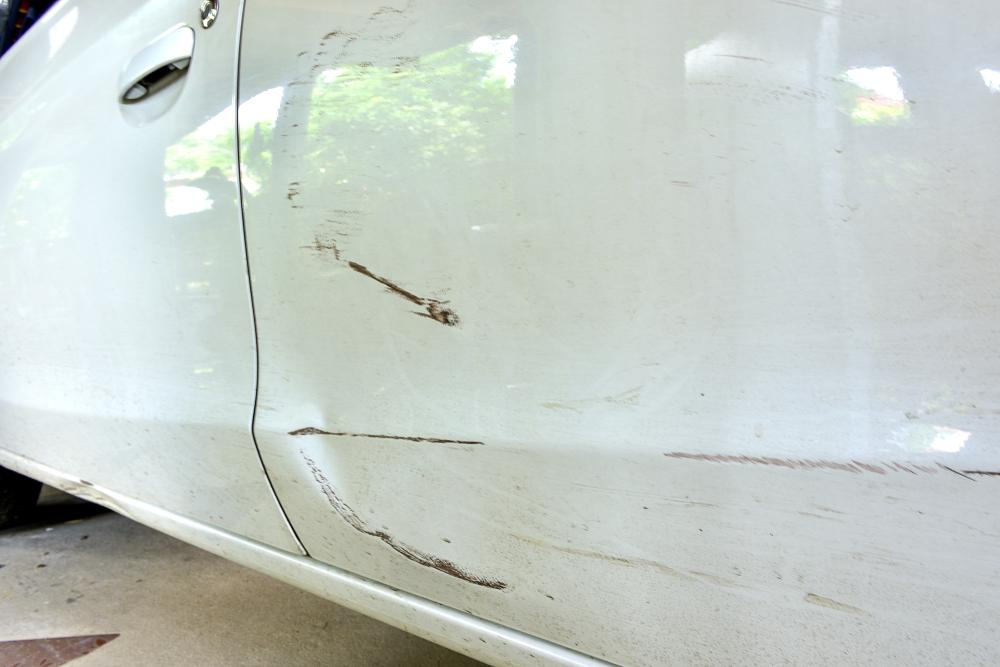scratch: (287, 422, 523, 600), (278, 0, 431, 211), (308, 205, 463, 331), (655, 442, 1000, 486)
